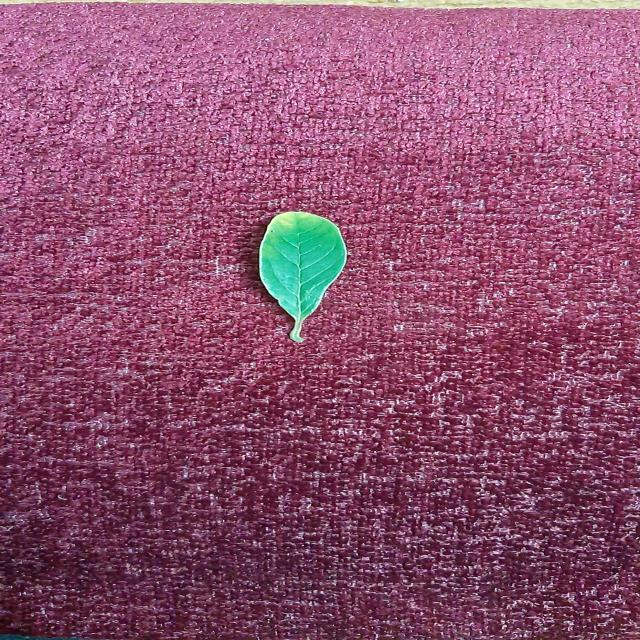seethaphala: (257, 211, 347, 342)
